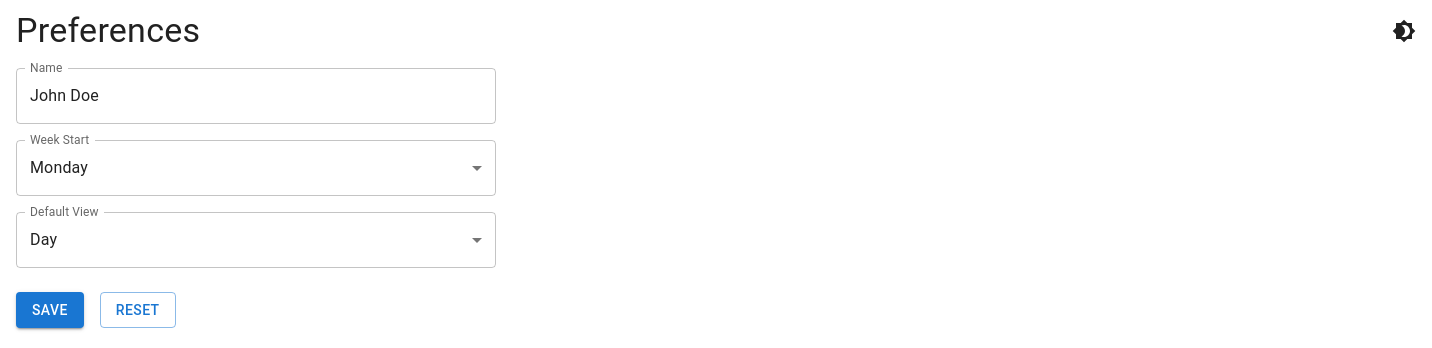
Test: PreferencesPage › resets edited fields back to current user values
This screenshot has width=1432, height=348.
Replace the text in the field labelled "Name" with "Jane" at [256, 96], box [16,68,496,124]
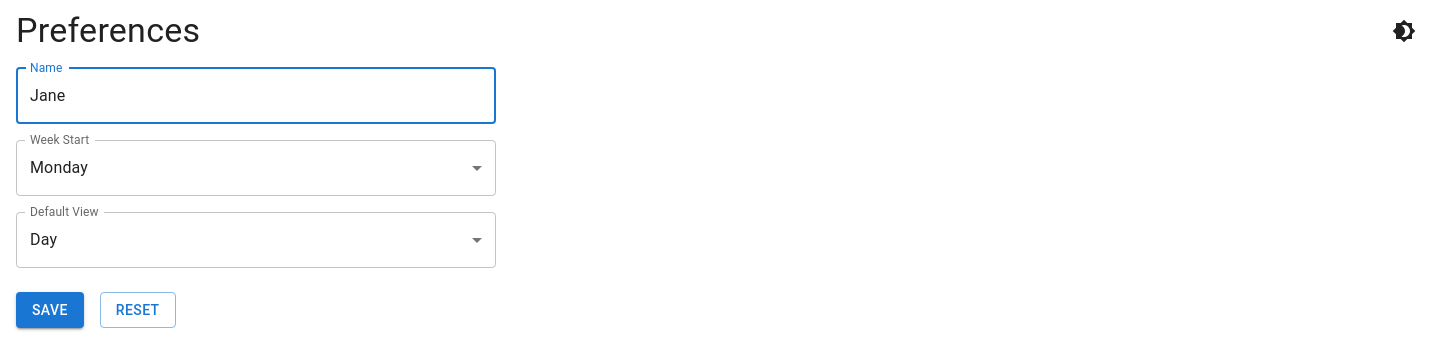
Click the button "Reset".
click(138, 310)  # box [100,292,176,328]
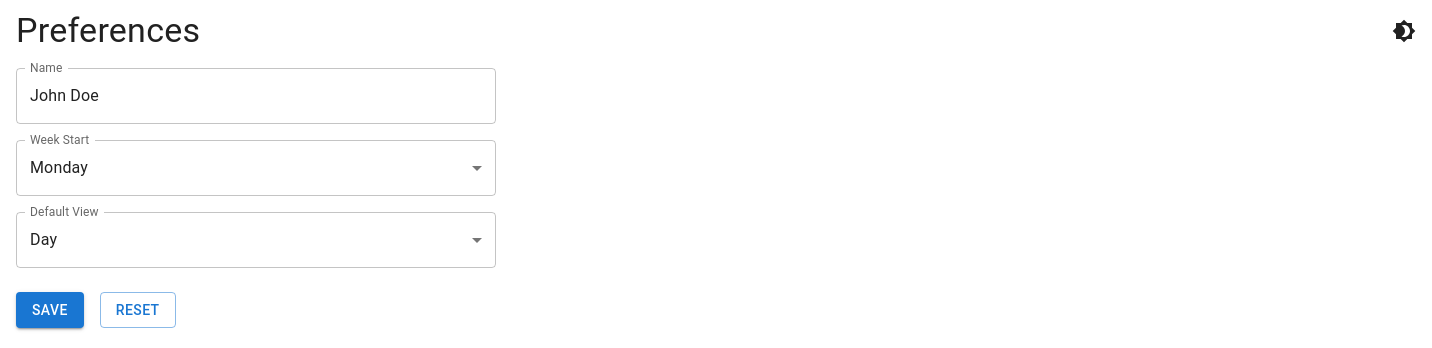
Expected: the field labelled "Name" holds "John Doe", [16,68,496,124]
